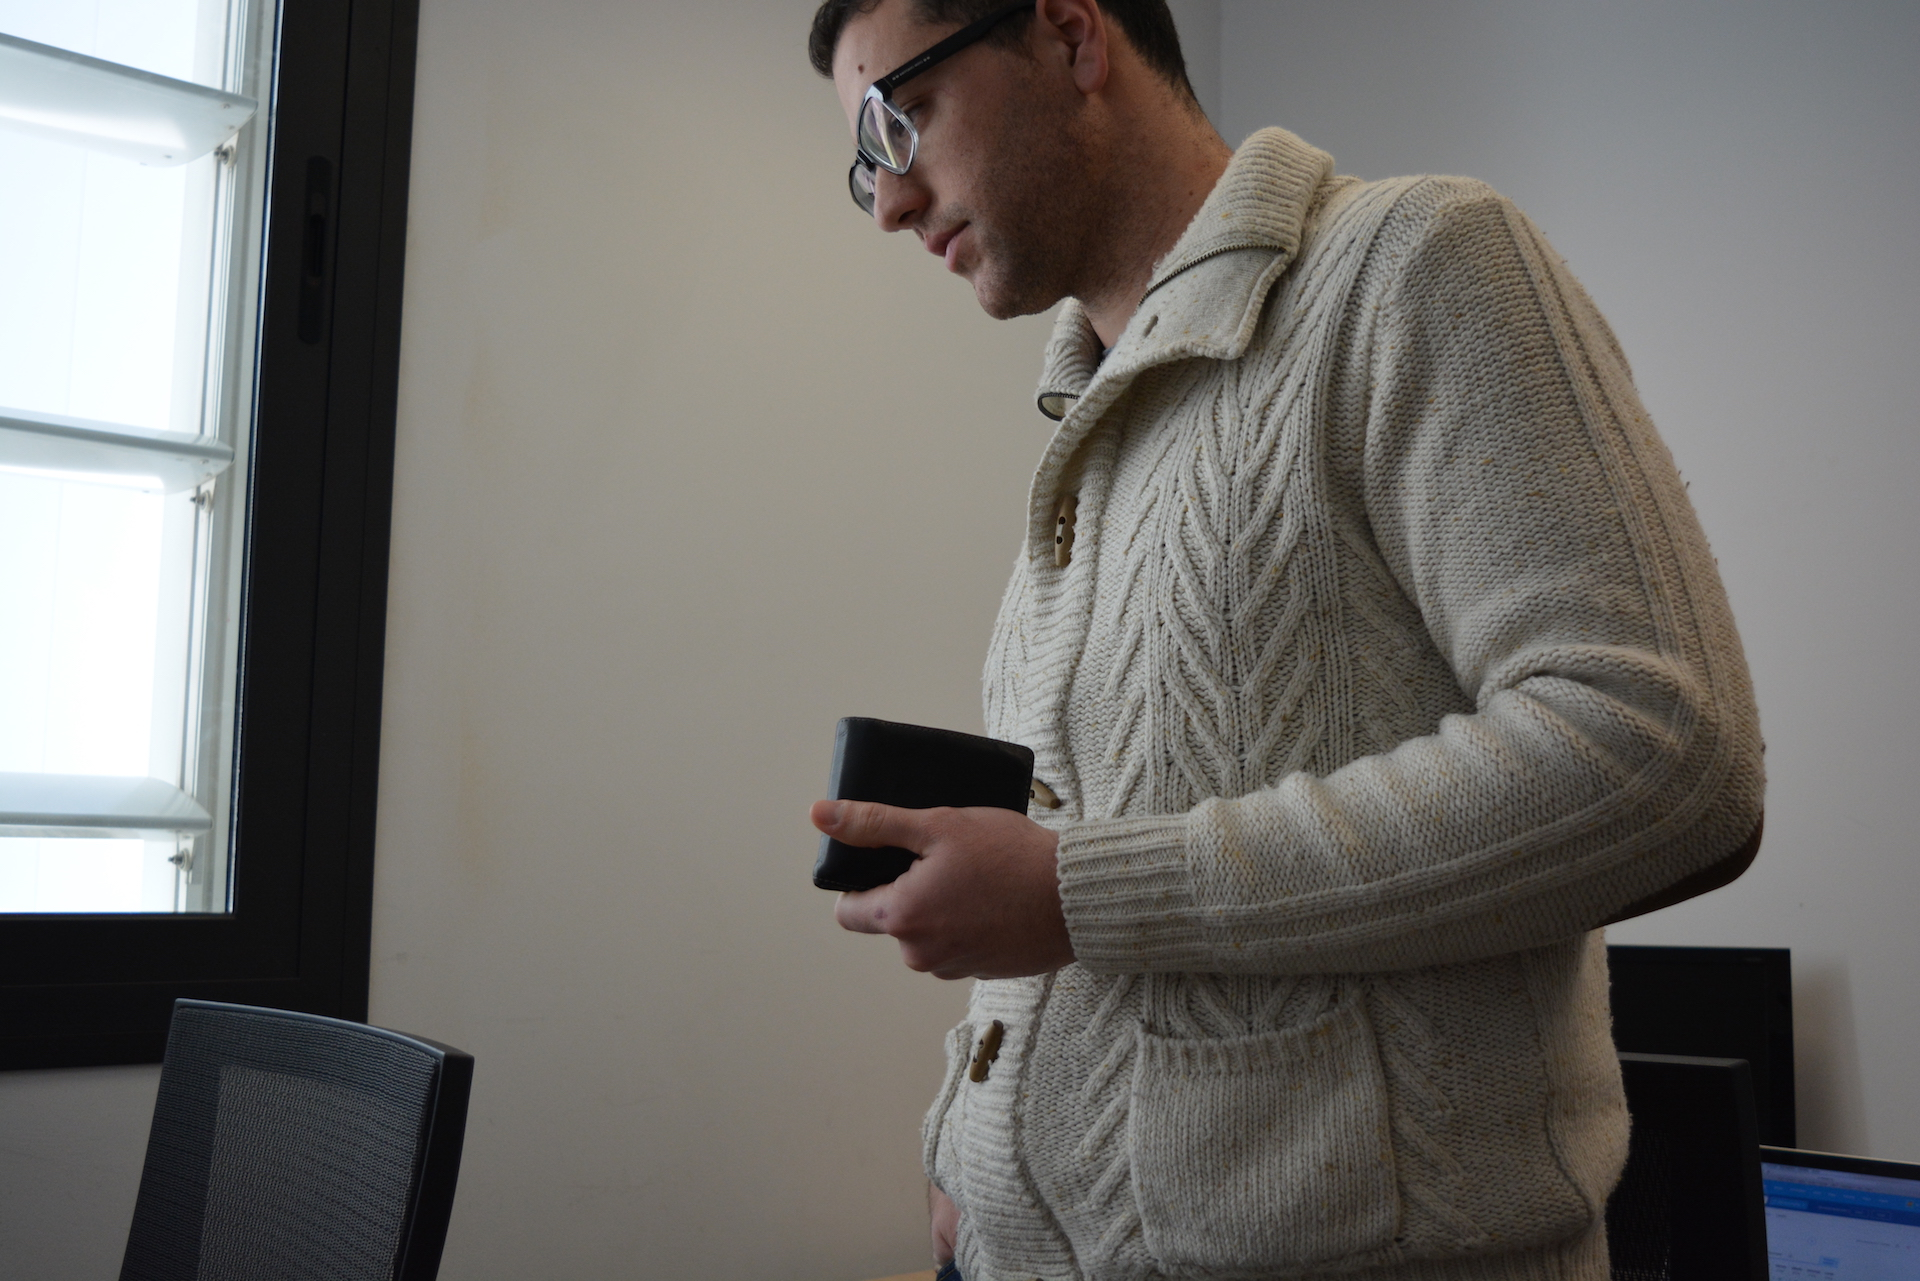monedero: (811, 715, 1038, 896)
